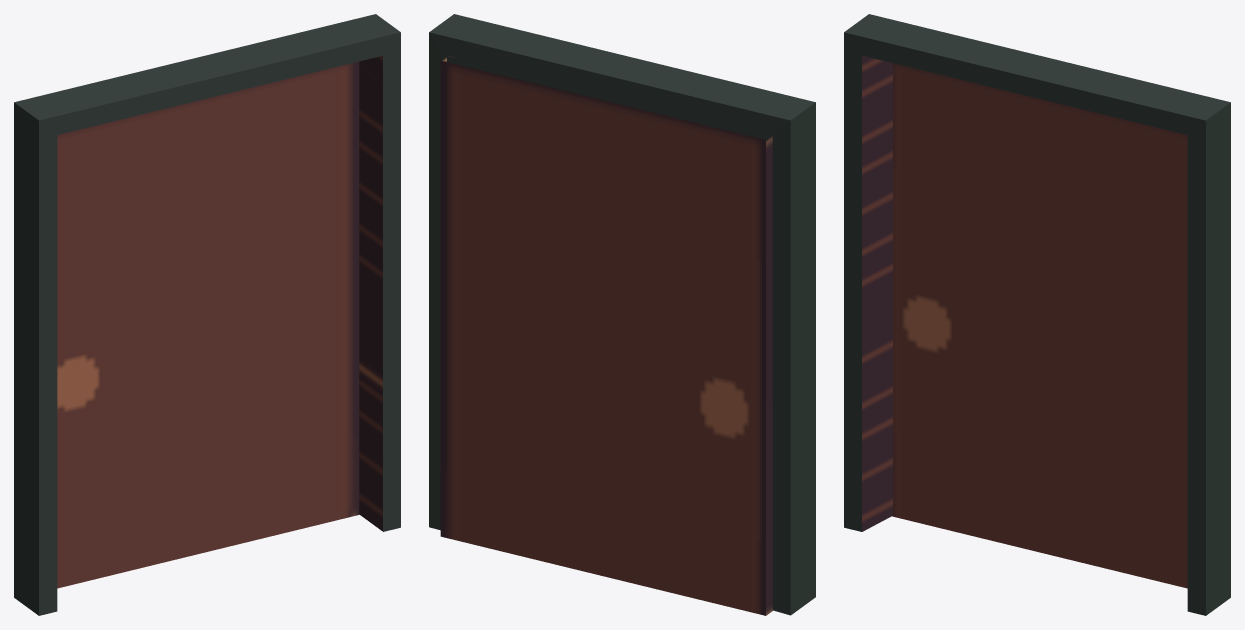
The model's file is PortaFechada.fbx.
The picture shows the model from 3 angles, left to right: view 1: azimuth 30°, elevation 25°; view 2: azimuth 150°, elevation 25°; view 3: azimuth 330°, elevation 25°; orthographic projection.
Visible parts, largest first — view 1: Porta; view 2: Porta; view 3: Porta.
Part boxes in pixels (x1,y1,x2,y2): Porta: [14, 14, 400, 615]; Porta: [429, 14, 815, 615]; Porta: [844, 14, 1230, 615].
Bounding box in the file's own units: 150 × 22.72 × 196.
